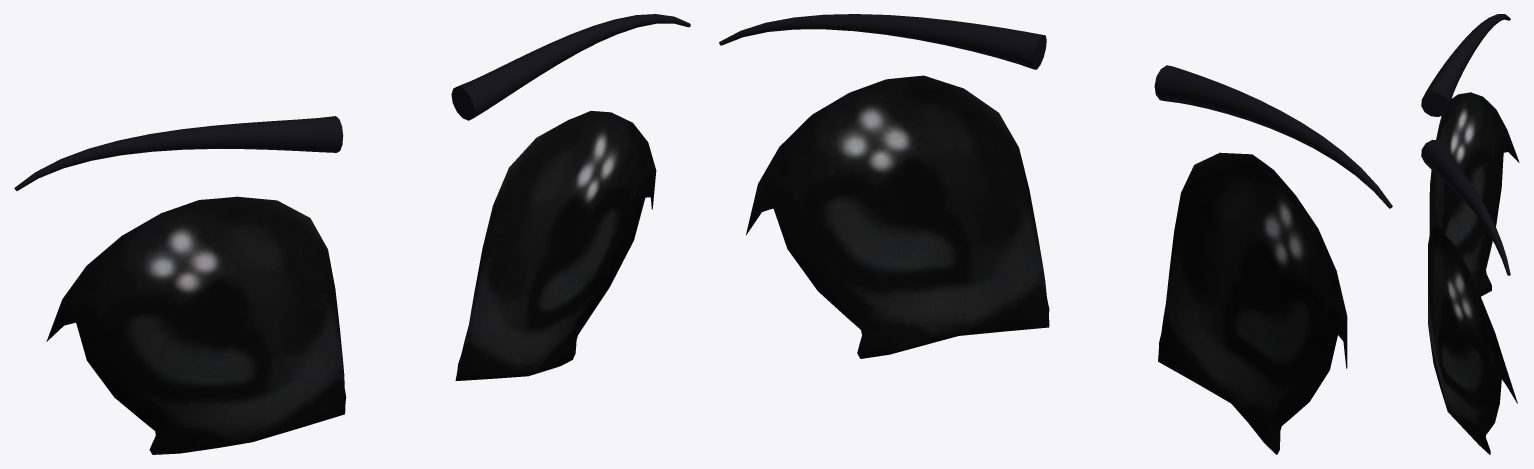
The model's file is Alien_Eyes.gltf.
The picture shows the model from 3 angles, left to right: view 1: azimuth 30°, elevation 25°; view 2: azimuth 150°, elevation 25°; view 3: azimuth 270°, elevation 25°; orthographic projection. The views are drawn at different scales.
Visible parts, largest first — view 1: Alien_Eyes; view 2: Alien_Eyes; view 3: Alien_Eyes.
Boxes of the visible parts, bbox=[...] form: Alien_Eyes: bbox=[14, 14, 690, 454]; Alien_Eyes: bbox=[719, 14, 1392, 454]; Alien_Eyes: bbox=[1421, 14, 1519, 454].
Bounding box in the file's own units: 0.6729 × 0.322 × 0.109.
2 materials, 1 textured.
